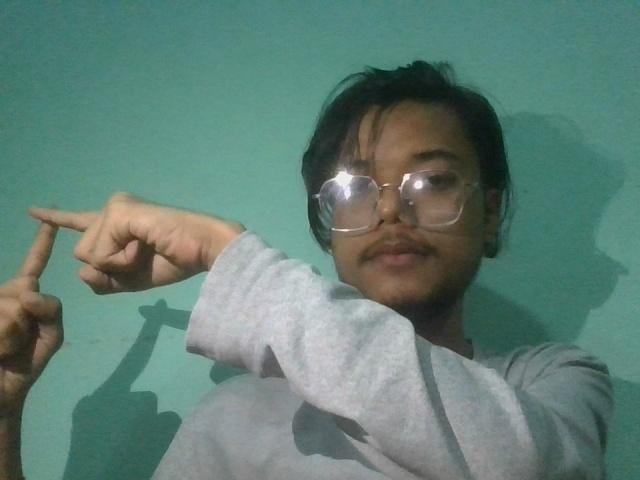When: (0, 159, 252, 408)
